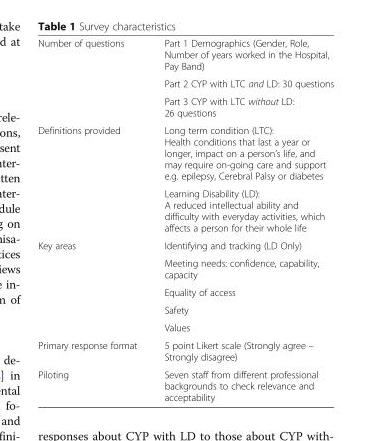table: (37, 37, 333, 402)
table column: (150, 37, 333, 402), (37, 37, 150, 402)
table row: (37, 121, 333, 184), (37, 184, 333, 236), (37, 37, 333, 74), (37, 365, 333, 402), (37, 92, 333, 121), (37, 253, 333, 282), (37, 336, 333, 365), (37, 74, 333, 92), (37, 282, 333, 300), (37, 300, 333, 318), (37, 318, 333, 336), (37, 236, 333, 253)
table spanning cell: (37, 121, 150, 236), (37, 236, 150, 336), (37, 37, 150, 121)
